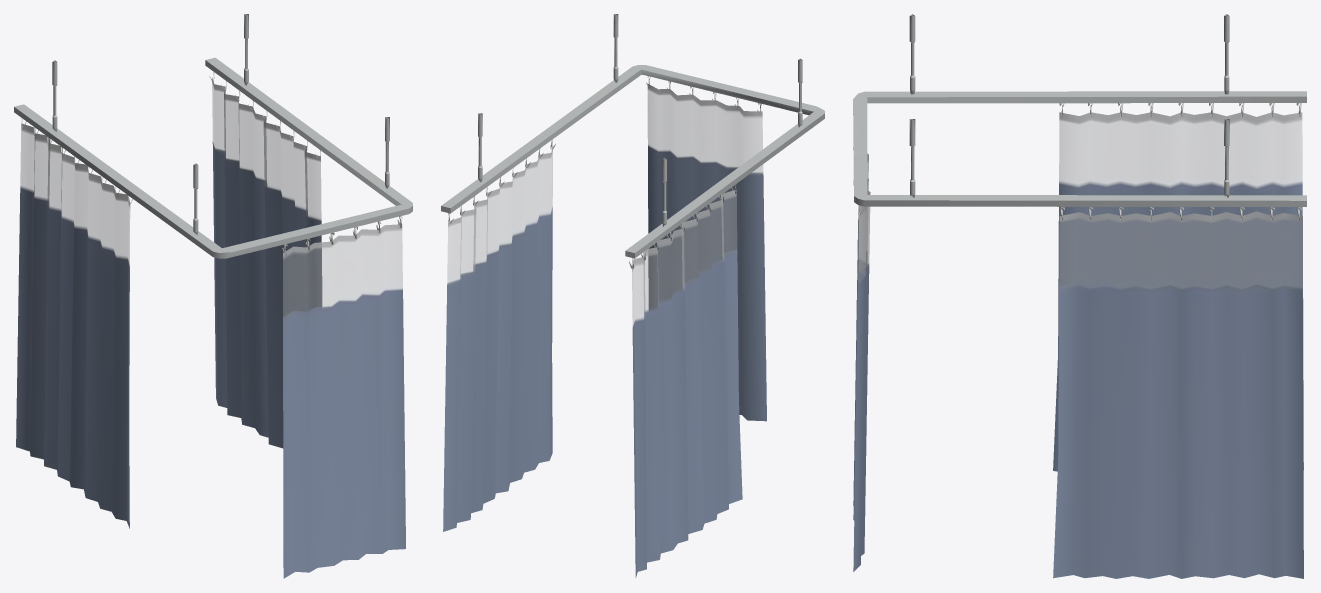
Rendered from bed-curtain.lod0.glb.
3 views of the same model, side by side, from view 1: azimuth 30°, elevation 25°; view 2: azimuth 150°, elevation 25°; view 3: azimuth 270°, elevation 25° (orthographic). The views are drawn at different scales.
Visible parts, largest first — view 1: defaultMaterial (×2); view 2: defaultMaterial (×2); view 3: defaultMaterial (×2).
Boxes of the visible parts, x1,y1,x2,y2 form: defaultMaterial (×2): [14, 14, 412, 578]; defaultMaterial (×2): [441, 14, 824, 577]; defaultMaterial (×2): [853, 14, 1306, 578].
Bounding box in the file's own units: 1.18 × 2.3 × 2.07.
2 materials, 2 textured.
